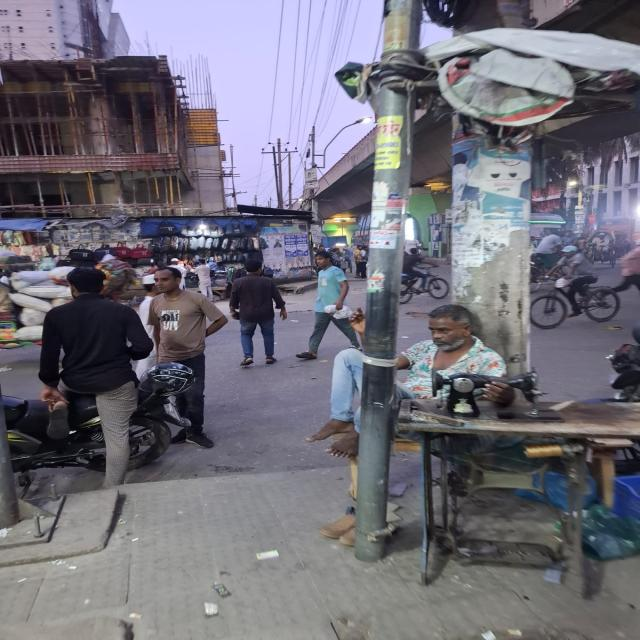person: (296, 250, 359, 360), (229, 260, 287, 366)
